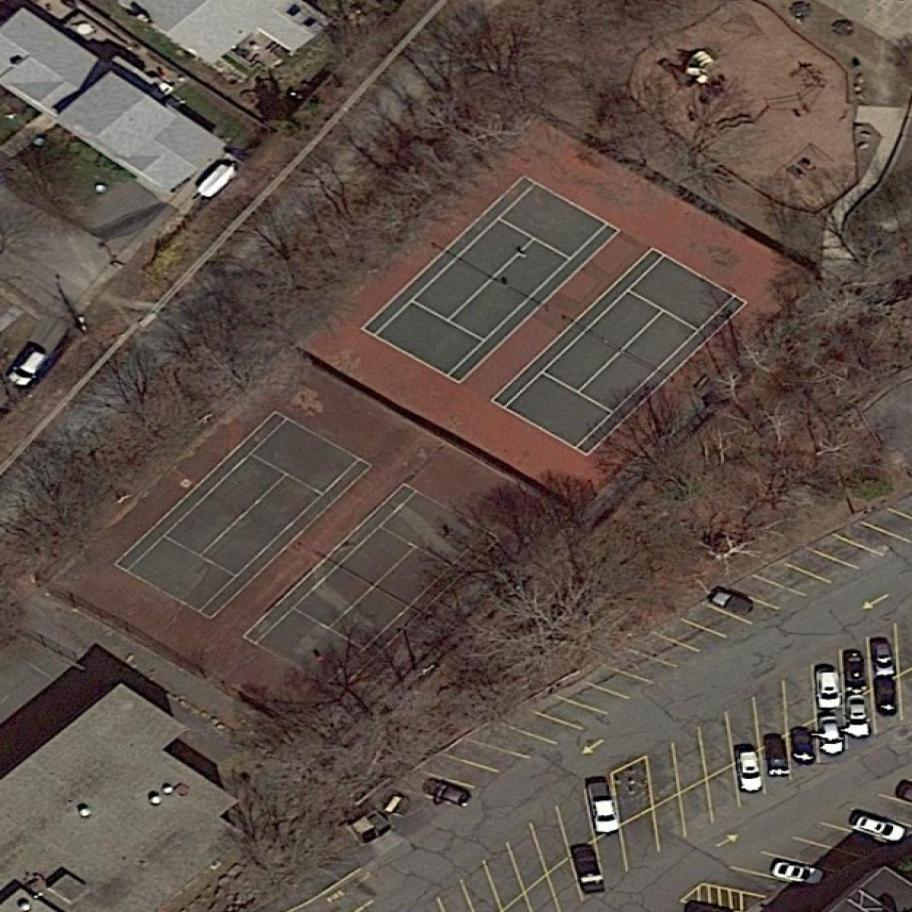small-vehicle: (3, 341, 60, 398), (844, 808, 911, 848), (584, 775, 624, 839), (765, 853, 829, 890), (418, 773, 479, 810), (571, 845, 608, 899), (707, 585, 758, 618), (760, 735, 794, 783), (816, 713, 849, 759), (844, 695, 876, 740), (871, 676, 905, 717), (734, 748, 763, 795), (841, 648, 871, 693), (870, 636, 902, 678), (788, 730, 819, 768), (817, 671, 844, 709)
